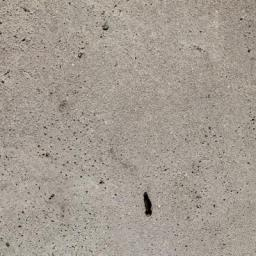FOD: (140, 192, 158, 220)
